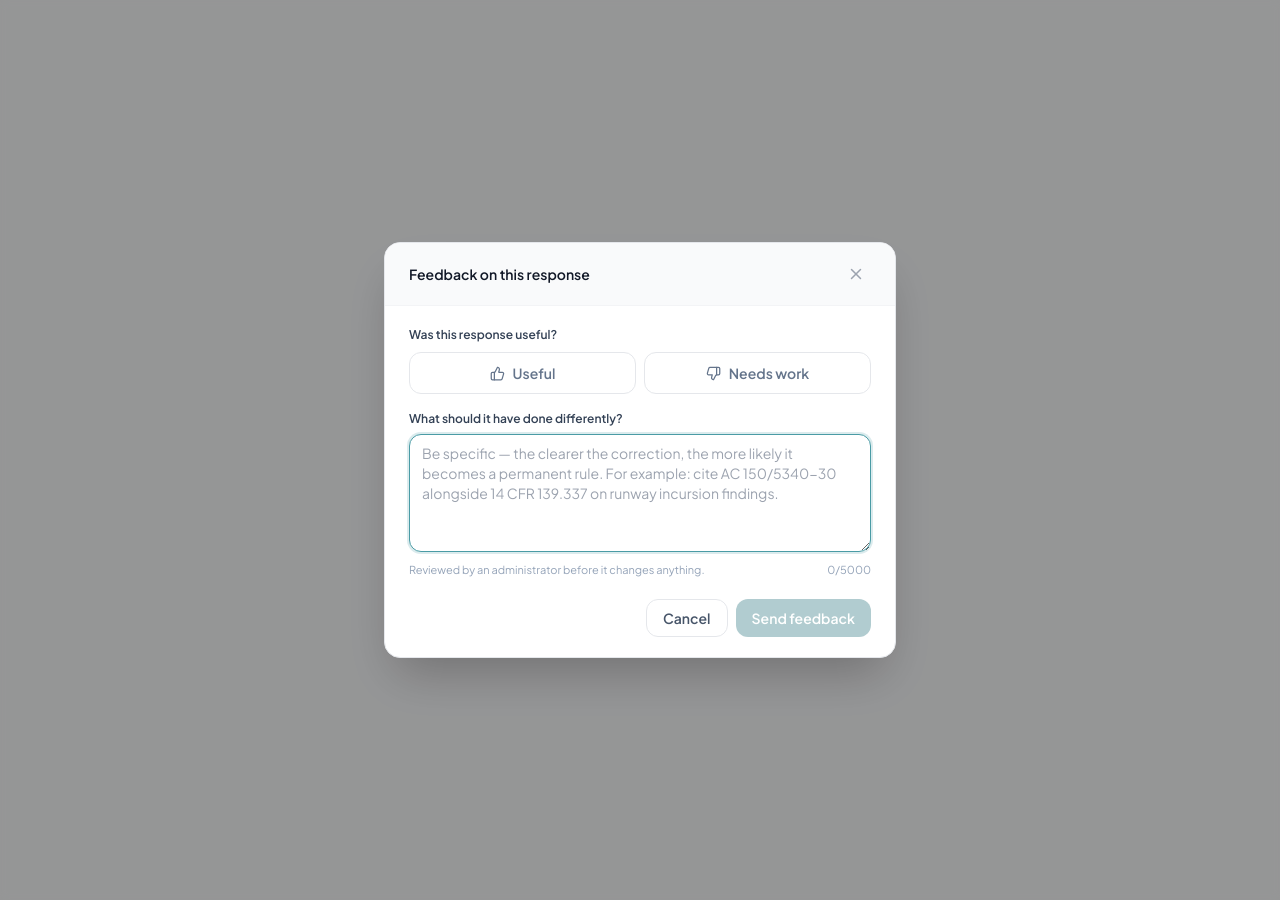
Test case: FeedbackModal › requires both a rating and a comment before sending
This screenshot has width=1280, height=900.
Expected: the button "Send feedback" is disabled, [736,599,871,637]
Click the button "Useful" at (522, 373), box [409,352,636,394]
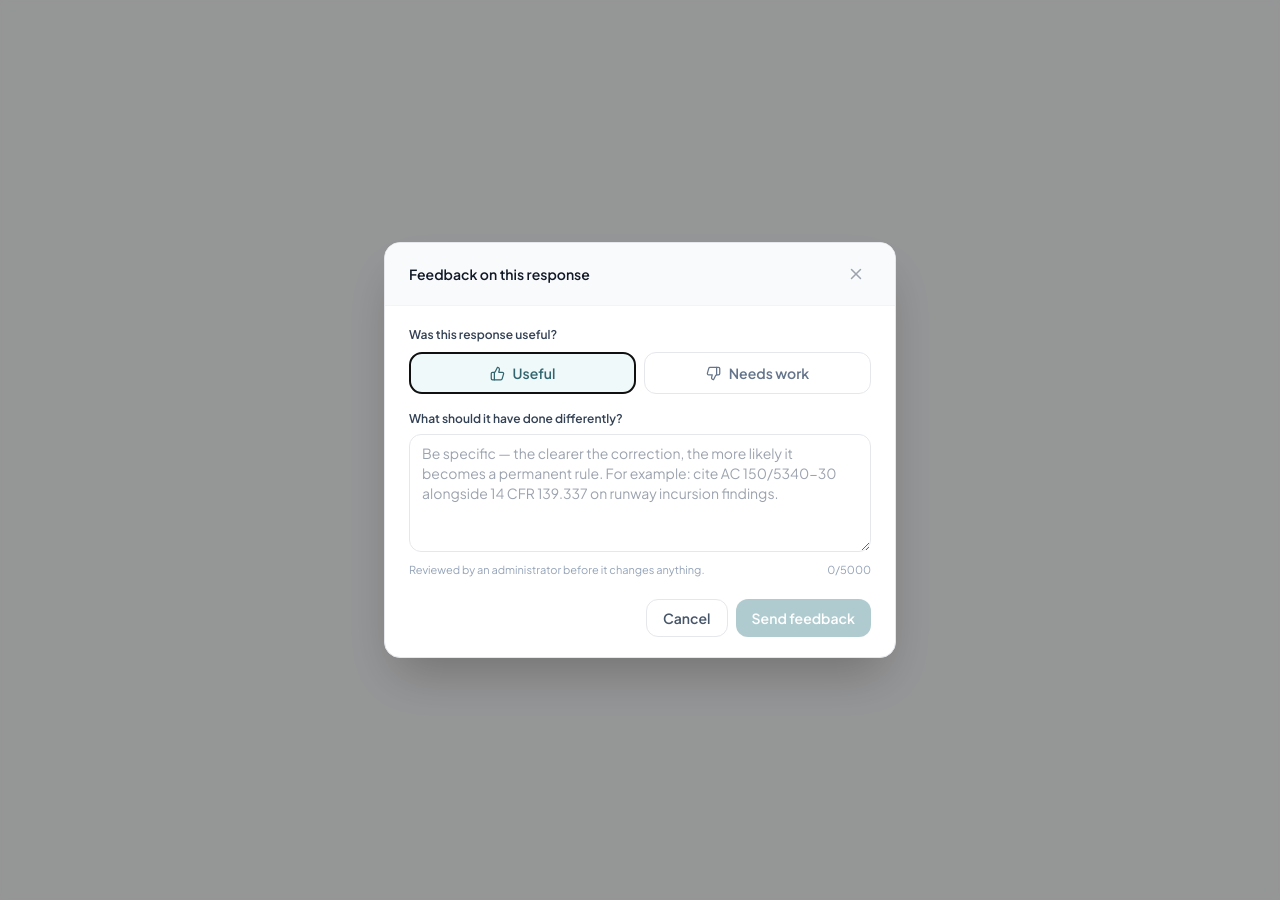
Expected: the button "Send feedback" is disabled, [736,599,871,637]
Type "Good answer." into the text box at (640, 493), box [409,434,871,552]
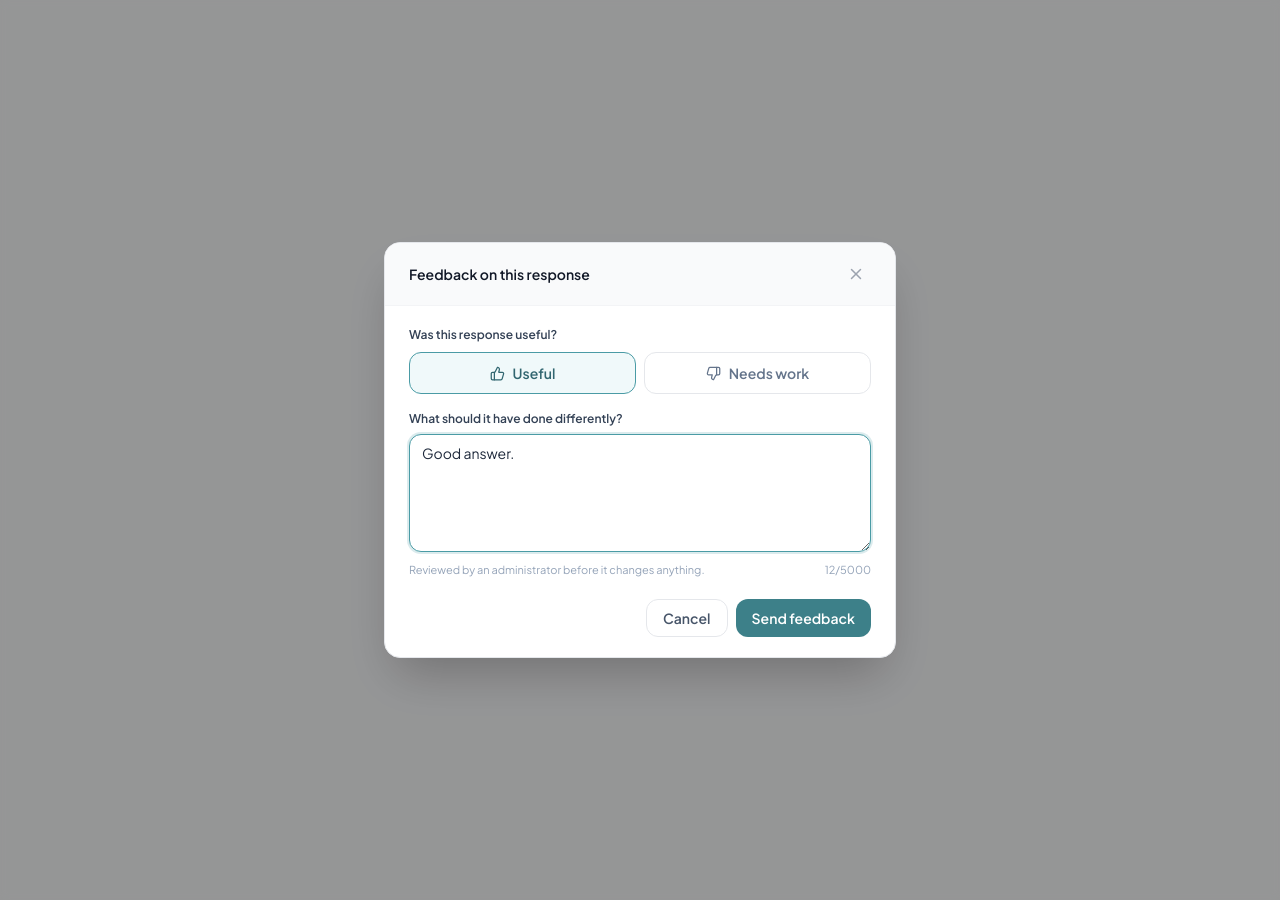
Result: the button "Send feedback" is enabled at [736,599,871,637]
